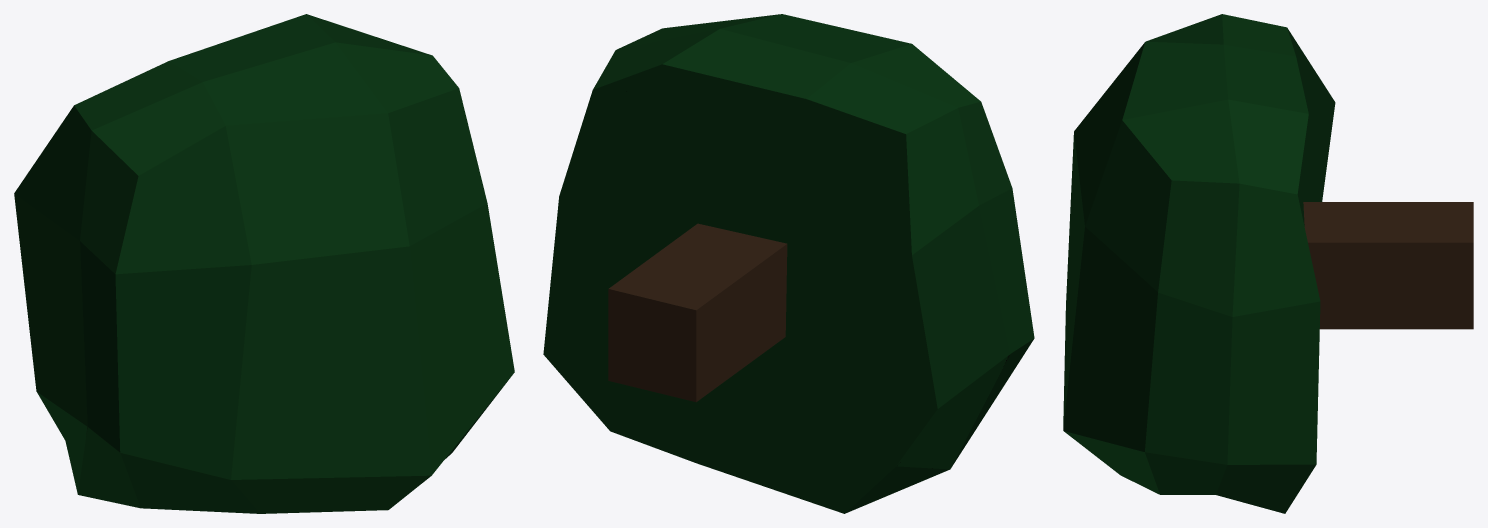
The model's file is TreeTile.gltf.
3 renders of one model, left to right at view 1: azimuth 30°, elevation 25°; view 2: azimuth 150°, elevation 25°; view 3: azimuth 270°, elevation 25°, orthographic. The views are drawn at different scales.
Parts seen in each view (by area): view 1: Cube; view 2: Cube; view 3: Cube.
Part boxes in pixels (box(x1,y1,x2,y2)): Cube: box(14, 14, 514, 513); Cube: box(543, 14, 1034, 513); Cube: box(1063, 14, 1473, 513).
Size of the model in its own units: 0.9854 by 0.9803 by 0.9281.
1 material, 1 textured.
